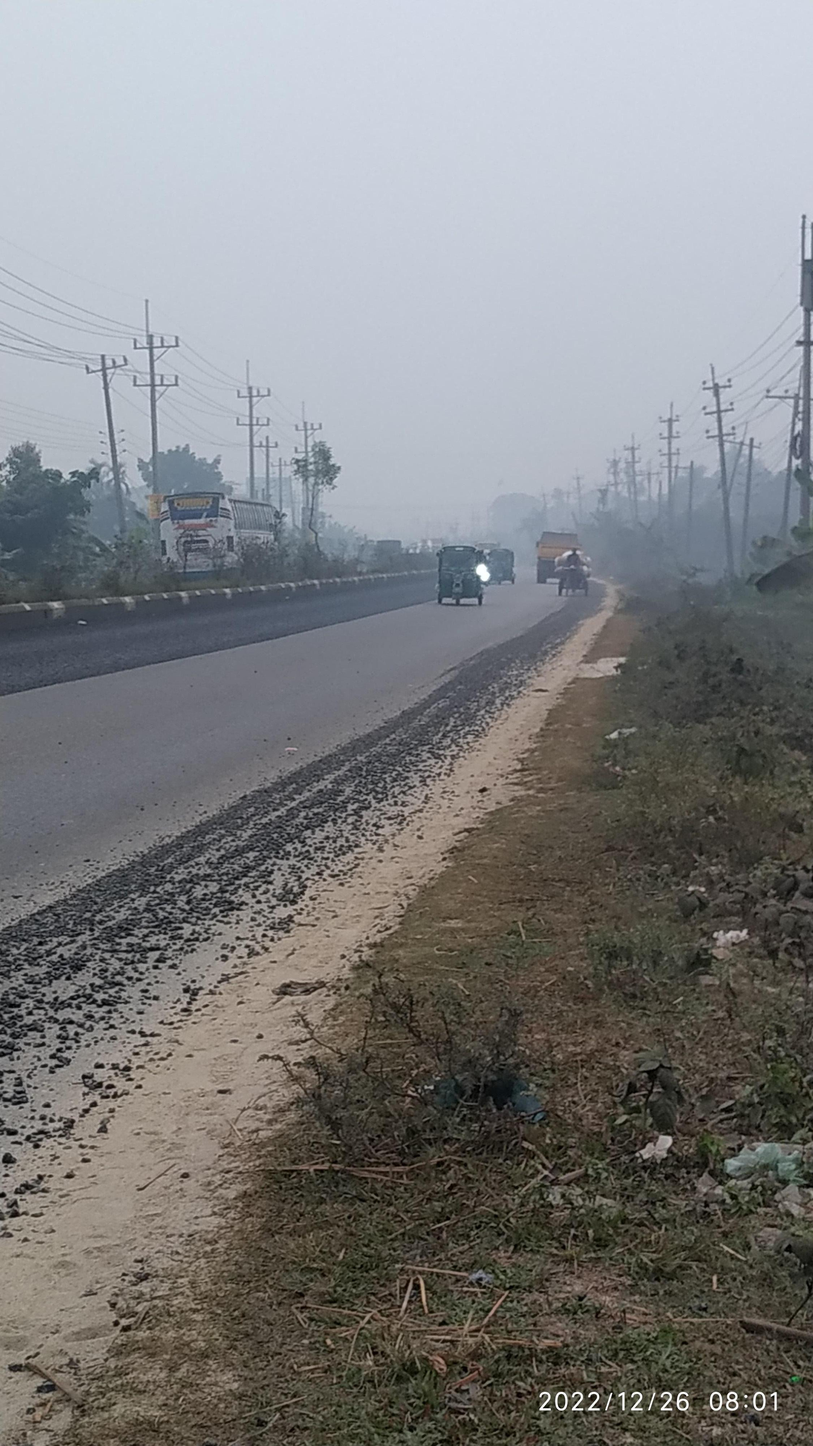Bus: (147, 468, 310, 590)
Truck: (531, 517, 602, 581)
